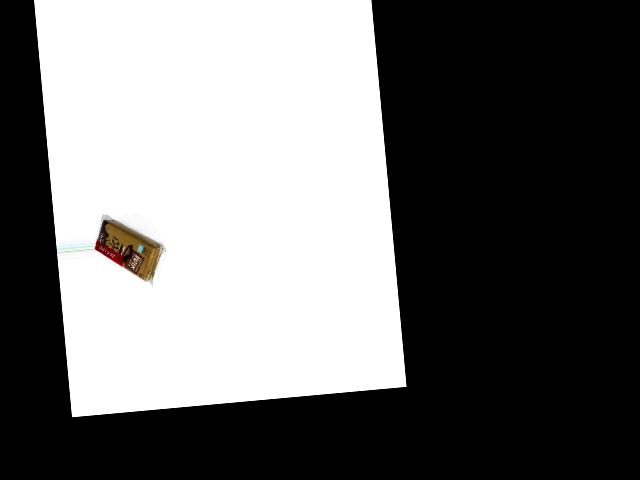chocolate: (93, 213, 166, 293)
